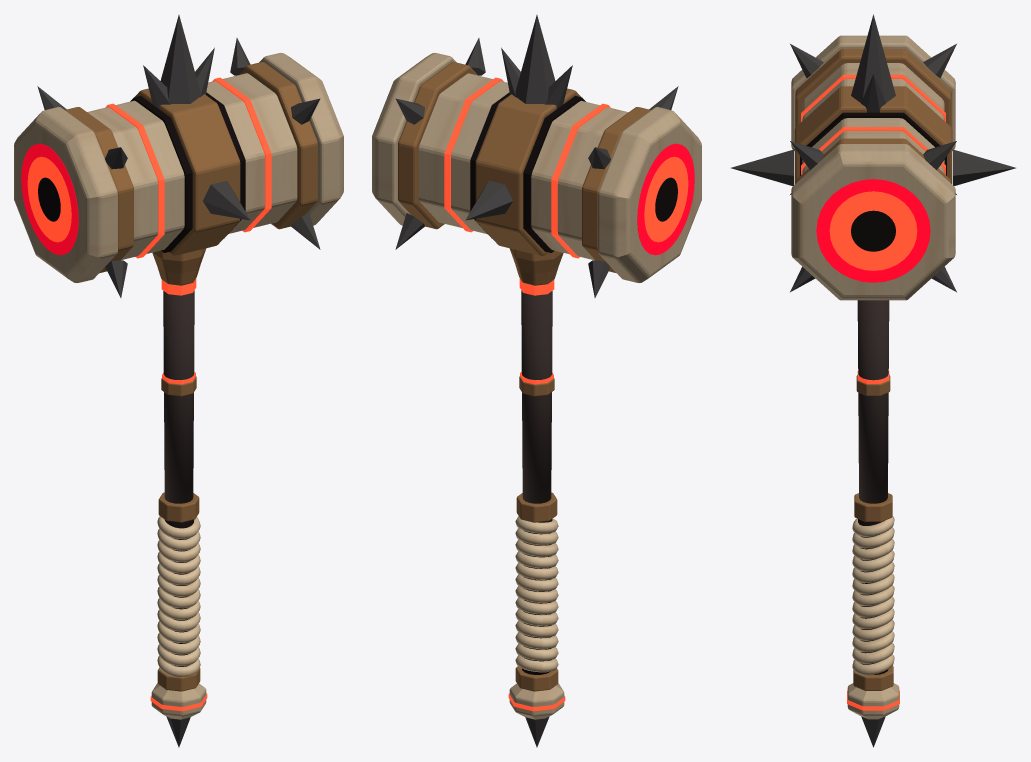
The model's file is hammer_darumaotoshi.fbx.
3 renders of one model, left to right at view 1: azimuth 30°, elevation 25°; view 2: azimuth 150°, elevation 25°; view 3: azimuth 270°, elevation 25°, orthographic.
Visible parts, largest first — view 1: darumaotoshi_hammer; view 2: darumaotoshi_hammer; view 3: darumaotoshi_hammer.
Part boxes in pixels (x1,y1,x2,y2): darumaotoshi_hammer: (14, 15, 343, 747); darumaotoshi_hammer: (372, 15, 701, 747); darumaotoshi_hammer: (731, 14, 1015, 747).
Bounding box in the file's own units: 1.13 × 3.05 × 1.08.
Materials: 8 (2 with a texture image).
